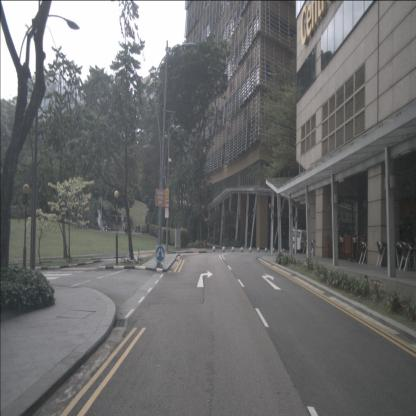vehicle-bicycle: (121, 249, 143, 267)
vehicle-car: (290, 230, 314, 254)
